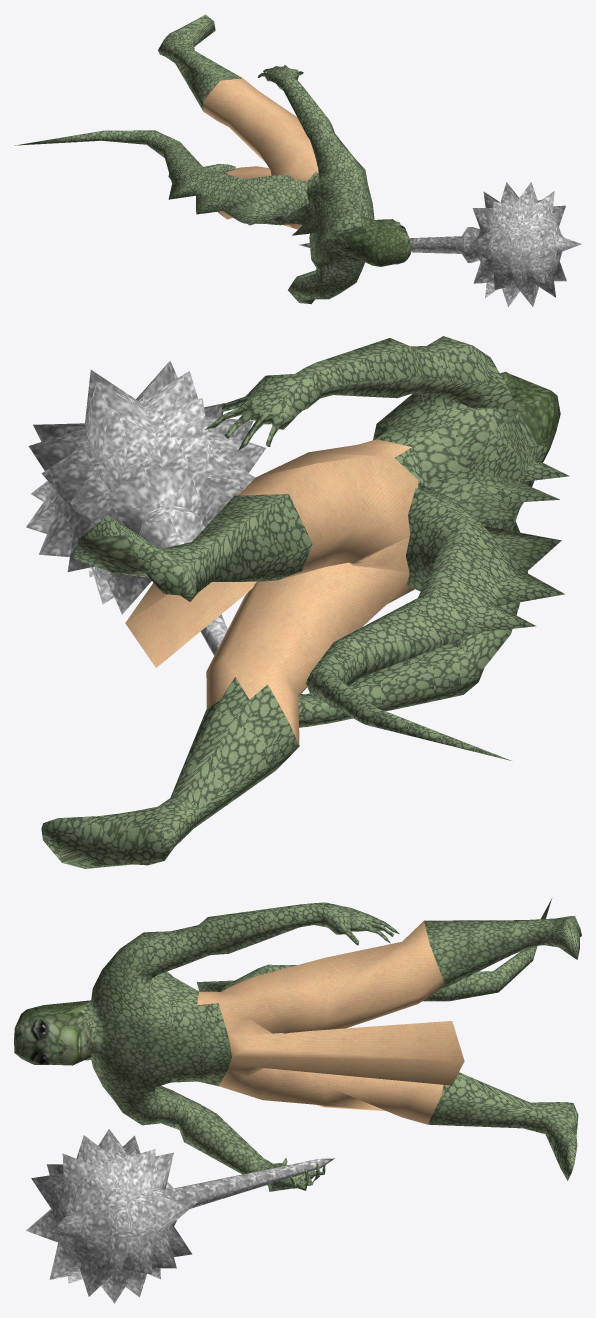
Rendered from makardhwaja_000236.obj.
3 renders of one model, top to bottom at view 1: azimuth 30°, elevation 25°; view 2: azimuth 150°, elevation 25°; view 3: azimuth 270°, elevation 25°, orthographic. The views are drawn at different scales.
Parts seen in each view (by area): view 1: hanuman_Cube.000, mace_Cube.008; view 2: hanuman_Cube.000, mace_Cube.008; view 3: hanuman_Cube.000, mace_Cube.008.
Part boxes in pixels (left/top/right/bottom): hanuman_Cube.000: left=15, top=14, right=411, bottom=304; mace_Cube.008: left=299, top=182, right=581, bottom=307; hanuman_Cube.000: left=41, top=336, right=569, bottom=868; mace_Cube.008: left=26, top=360, right=265, bottom=655; hanuman_Cube.000: left=14, top=898, right=581, bottom=1191; mace_Cube.008: left=26, top=1129, right=334, bottom=1303.
Size of the model in its own units: 3.43 by 1.68 by 3.09.
